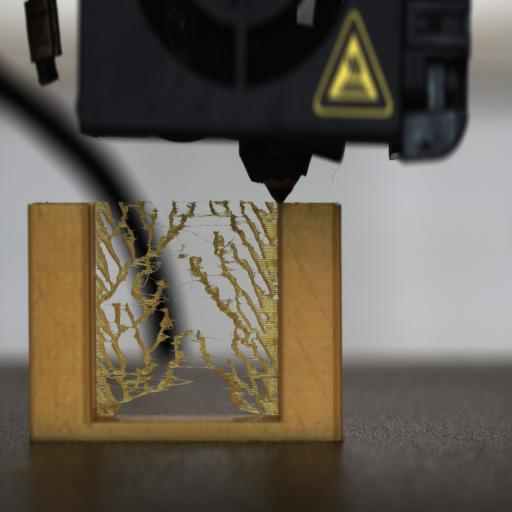stringing: (200, 206, 278, 410), (98, 297, 188, 411), (94, 210, 132, 410), (119, 205, 175, 319), (231, 201, 275, 273), (202, 316, 234, 400), (216, 214, 228, 226), (227, 328, 235, 346)
